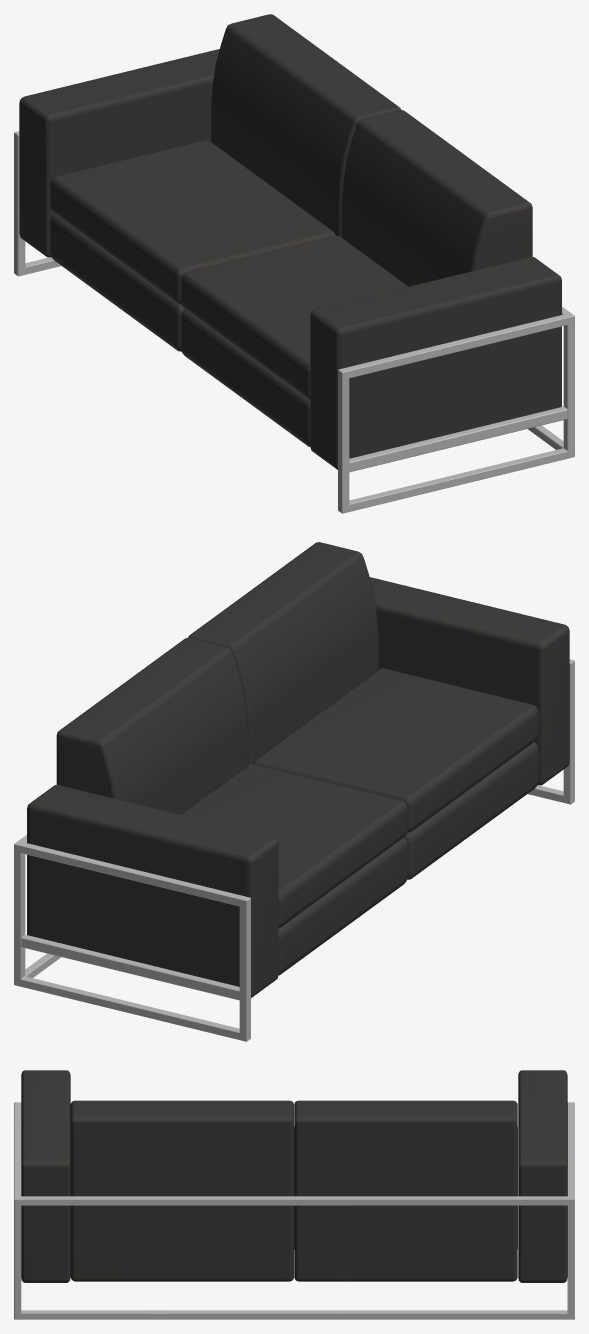
The model's file is CR_Sofa.glb.
3 views of the same model, one above another, from view 1: azimuth 30°, elevation 25°; view 2: azimuth 150°, elevation 25°; view 3: azimuth 270°, elevation 25° (orthographic). The views are drawn at different scales.
Visible parts, largest first — view 1: Sofa; view 2: Sofa; view 3: Sofa.
Part boxes in pixels (x1,y1,x2,y2): Sofa: [14, 14, 574, 513]; Sofa: [14, 542, 574, 1041]; Sofa: [14, 1070, 574, 1319].
Size of the model in its own units: 0.9328 by 0.884 by 2.27.
Materials: 1 (1 with a texture image).
